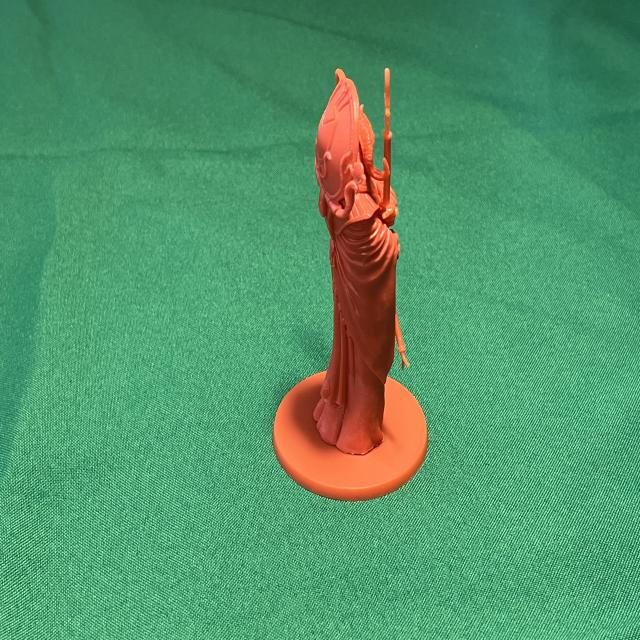amon: (268, 60, 432, 506)
